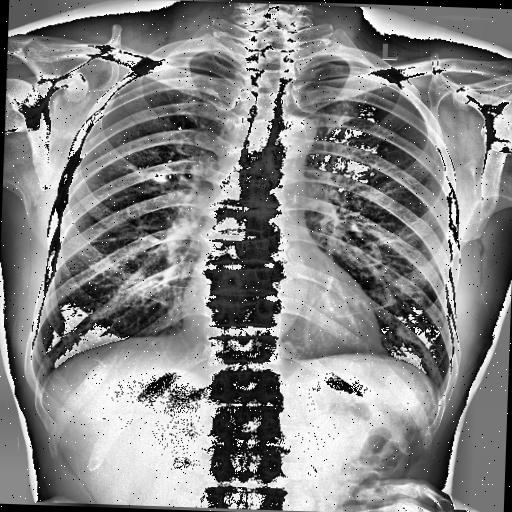10- Pleural effusion: (27, 372, 54, 400), (426, 377, 446, 405)
11- Pleural thickening: (27, 372, 54, 400), (426, 377, 446, 405)
2- Calcification: (150, 170, 164, 182)
8- Nodule-Mass: (149, 171, 167, 182), (152, 171, 168, 182), (150, 170, 164, 182)
9- Other lesion: (150, 170, 164, 182)
